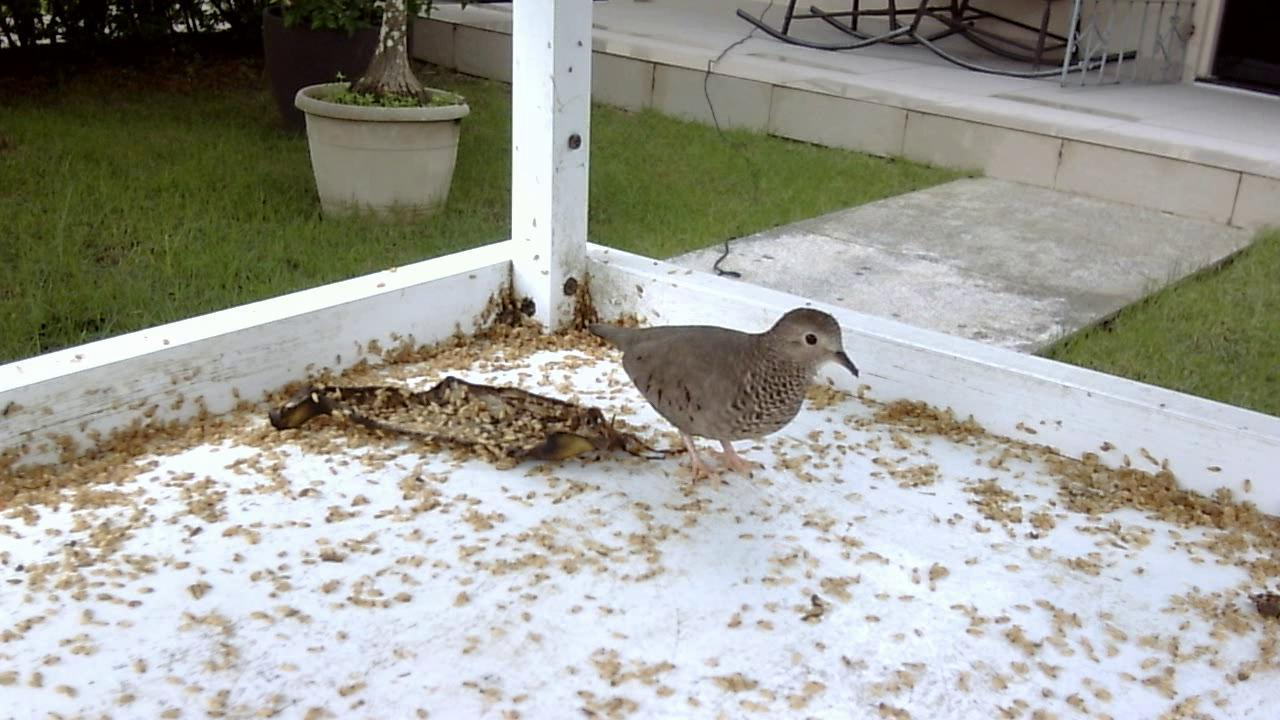rolinha: (581, 300, 866, 496)
